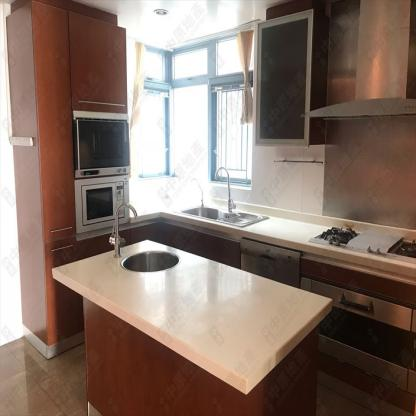Cupboard: (253, 7, 315, 149), (69, 11, 127, 112)
Exhaust Hood: (302, 1, 416, 116)
Faucet: (113, 204, 136, 257), (214, 164, 233, 209)
Microwave: (76, 174, 128, 232)
Oven: (74, 112, 129, 181)
Sink: (178, 204, 264, 227), (124, 250, 179, 271)
Stove: (308, 227, 416, 264)
